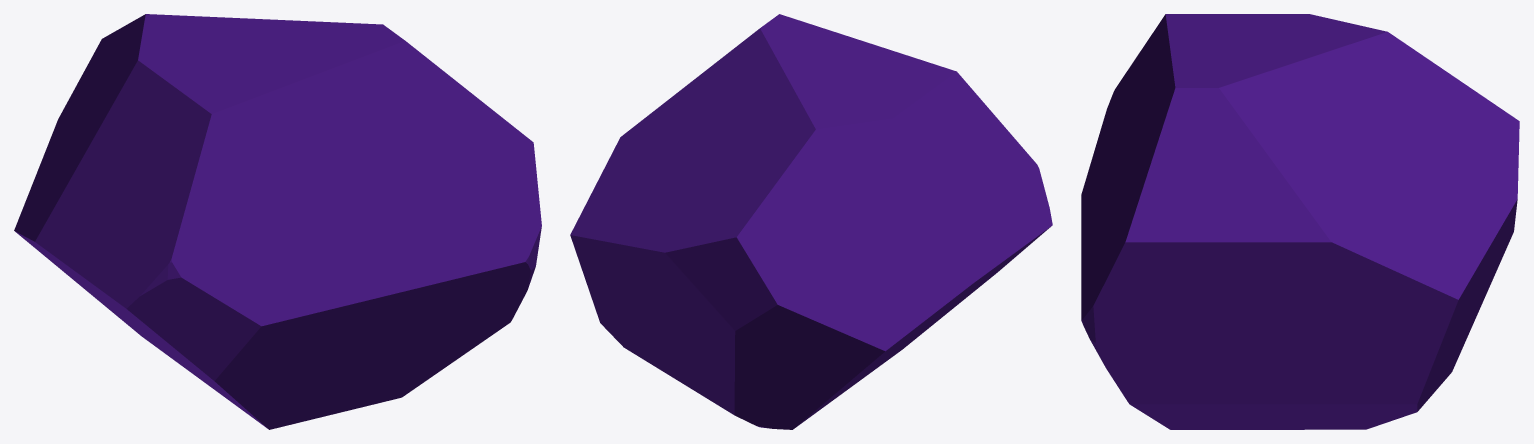
Rendered from Pedra_02.fbx.
3 renders of one model, left to right at view 1: azimuth 30°, elevation 25°; view 2: azimuth 150°, elevation 25°; view 3: azimuth 270°, elevation 25°, orthographic. The views are drawn at different scales.
Visible parts, largest first — view 1: Pedra_02; view 2: Pedra_02; view 3: Pedra_02.
Boxes of the visible parts, <box> form: Pedra_02: <box>14,14,541,429</box>; Pedra_02: <box>570,14,1052,429</box>; Pedra_02: <box>1081,14,1519,429</box>.
Size of the model in its own units: 31.11 by 26.33 by 30.33.
